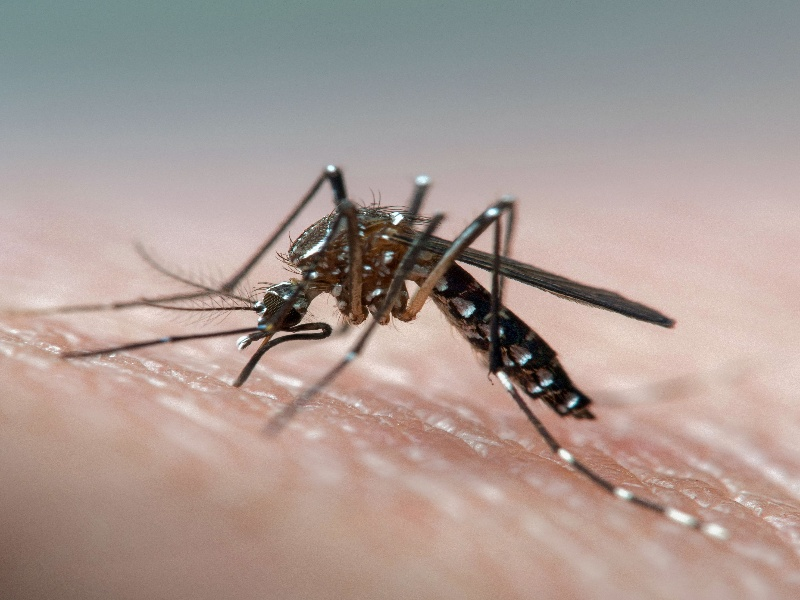dengue_mosquito: (214, 190, 558, 378)
